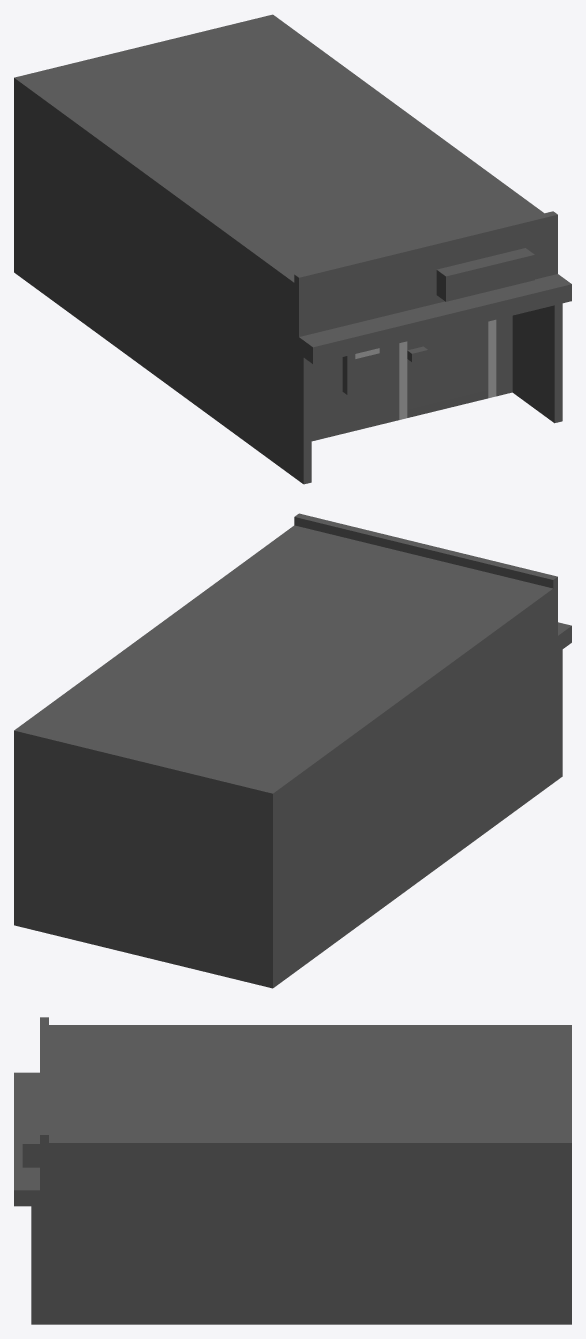
The model's file is bld_store14.obj.
The picture shows the model from 3 angles, top to bottom: view 1: azimuth 30°, elevation 25°; view 2: azimuth 150°, elevation 25°; view 3: azimuth 270°, elevation 25°; orthographic projection. The views are drawn at different scales.
Size of the model in its own units: 32 by 24 by 64.
